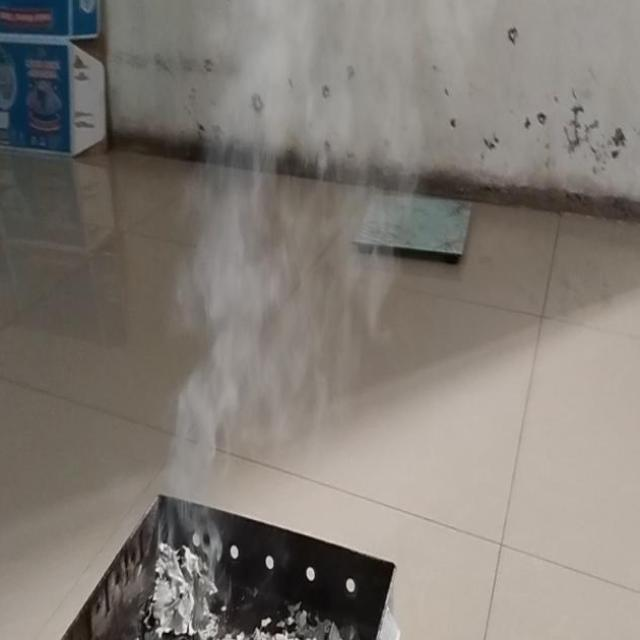fire: (188, 9, 400, 438)
